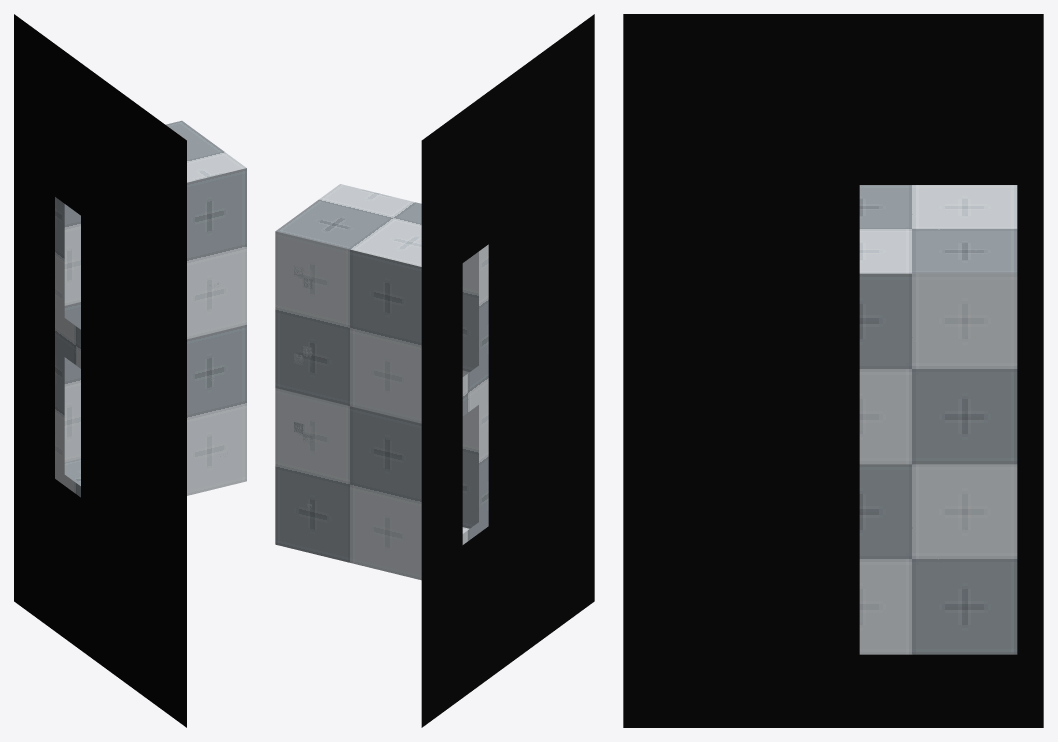
File: tile-game-room5.glb
3 renders of one model, left to right at view 1: azimuth 30°, elevation 25°; view 2: azimuth 150°, elevation 25°; view 3: azimuth 270°, elevation 25°, orthographic. The views are drawn at different scales.
Visible parts, largest first — view 1: Cover, Base; view 2: Cover, Base, Posts; view 3: Cover, Base.
Part boxes in pixels (x1=…): Cover: x1=14, y1=14, x2=186, y2=727; Base: x1=55, y1=120, x2=246, y2=497; Cover: x1=421, y1=14, x2=594, y2=727; Base: x1=275, y1=184, x2=488, y2=580; Posts: x1=294, y1=266, x2=312, y2=508; Cover: x1=623, y1=14, x2=1043, y2=727; Base: x1=859, y1=185, x2=1017, y2=654.
Size of the model in its own units: 4.2 by 15 by 8.
2 materials, 1 textured.
